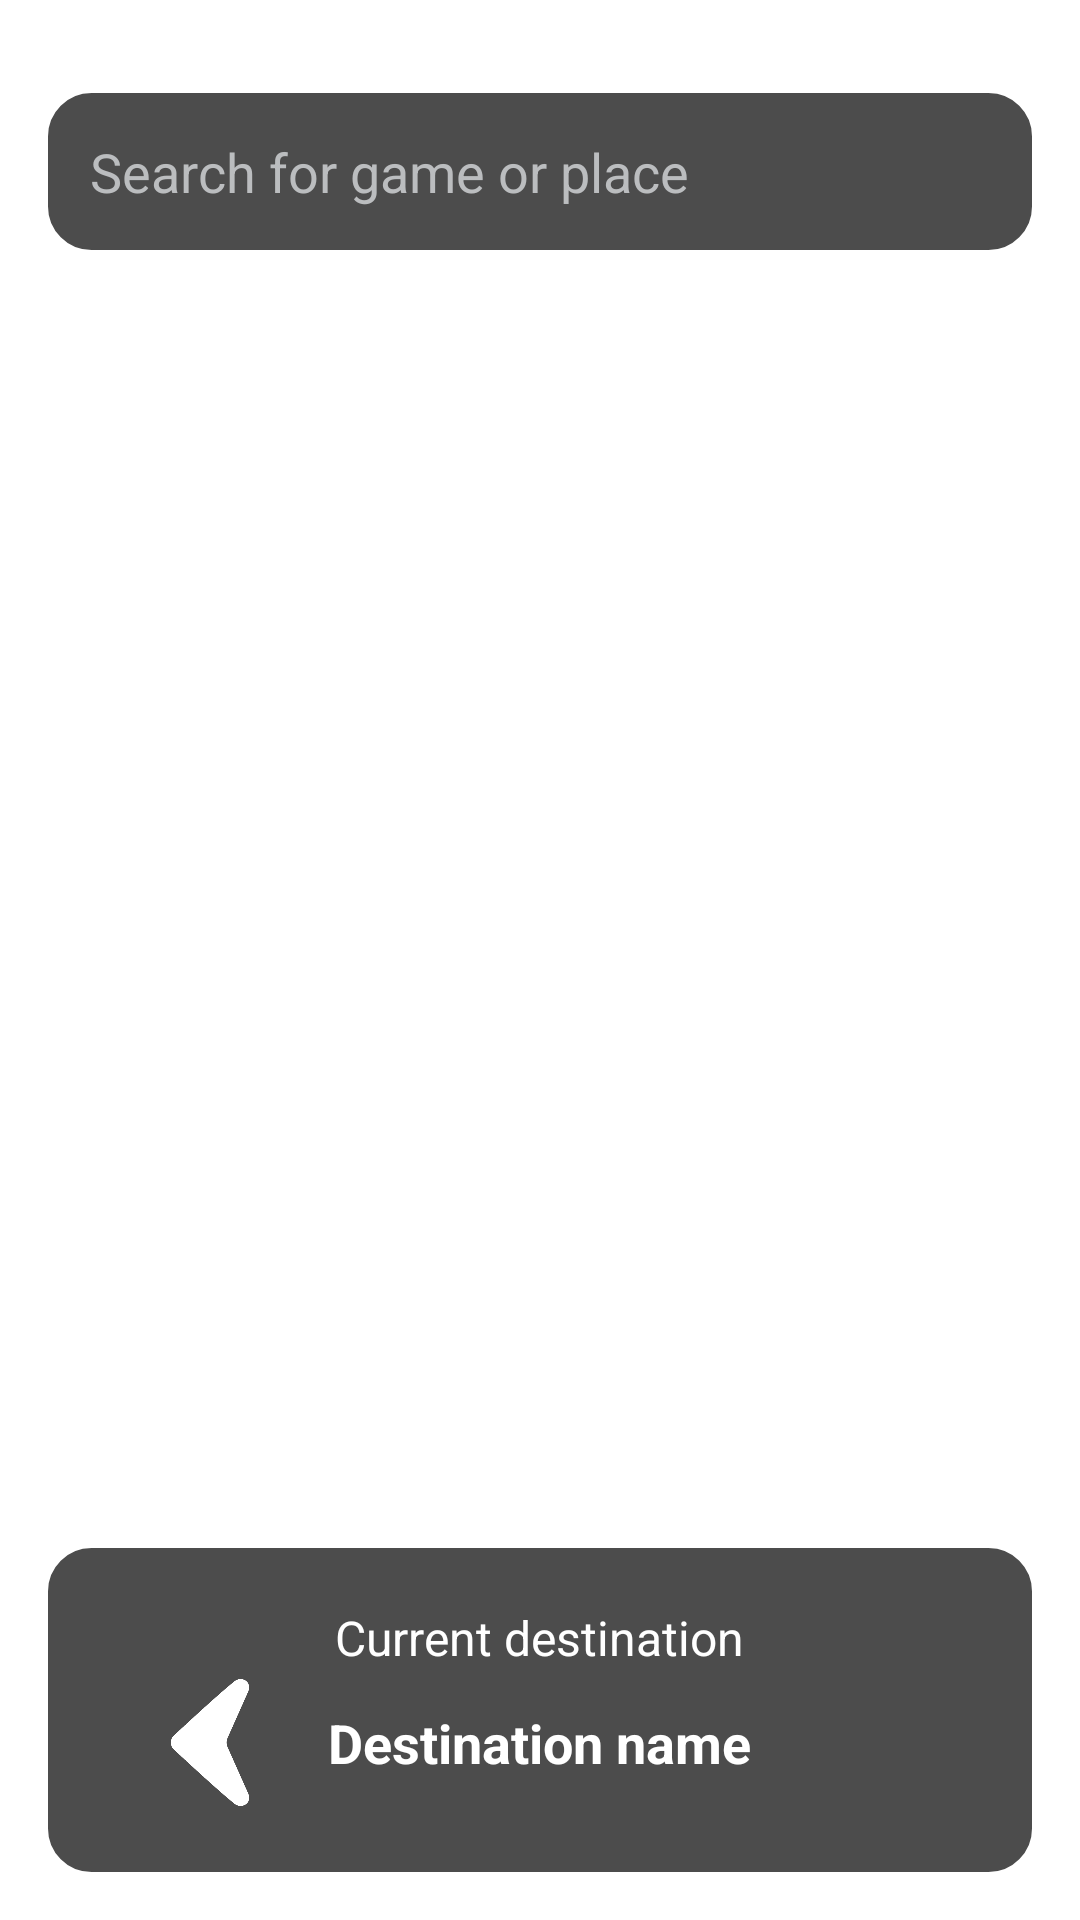

Icon bounding boxes for this 1080px×1920px phone screenshot, format (x1, y1, x2, y2):
arrowhead prev: (171, 1679, 249, 1806)
